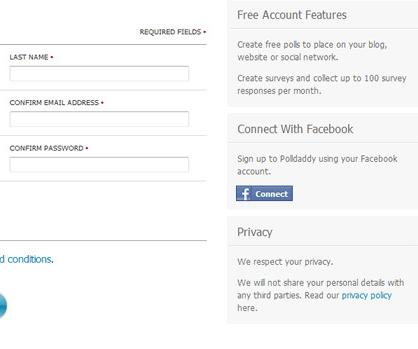button: (236, 185, 294, 201)
field: (8, 109, 191, 128), (9, 63, 190, 82), (10, 155, 190, 174)
field_with_label: (6, 98, 192, 129), (7, 145, 191, 176), (7, 52, 190, 83)
